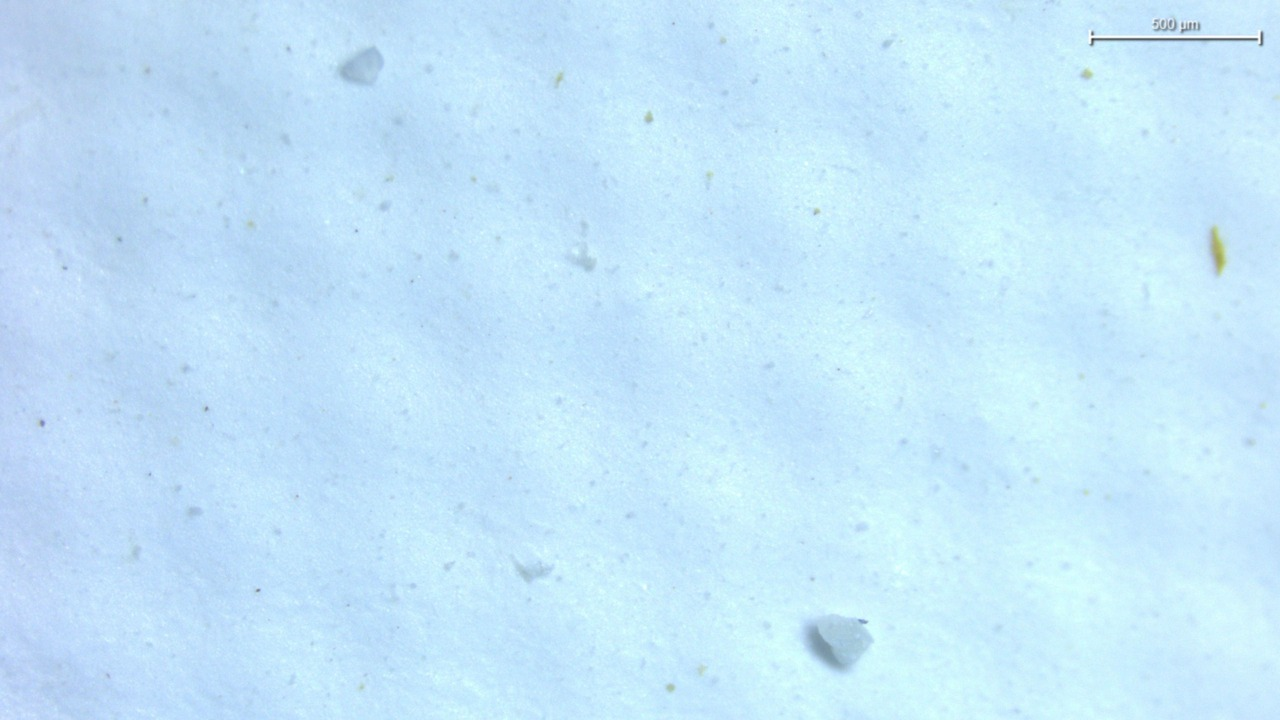microplastic_fragment: (812, 614, 873, 667), (338, 46, 384, 86)
